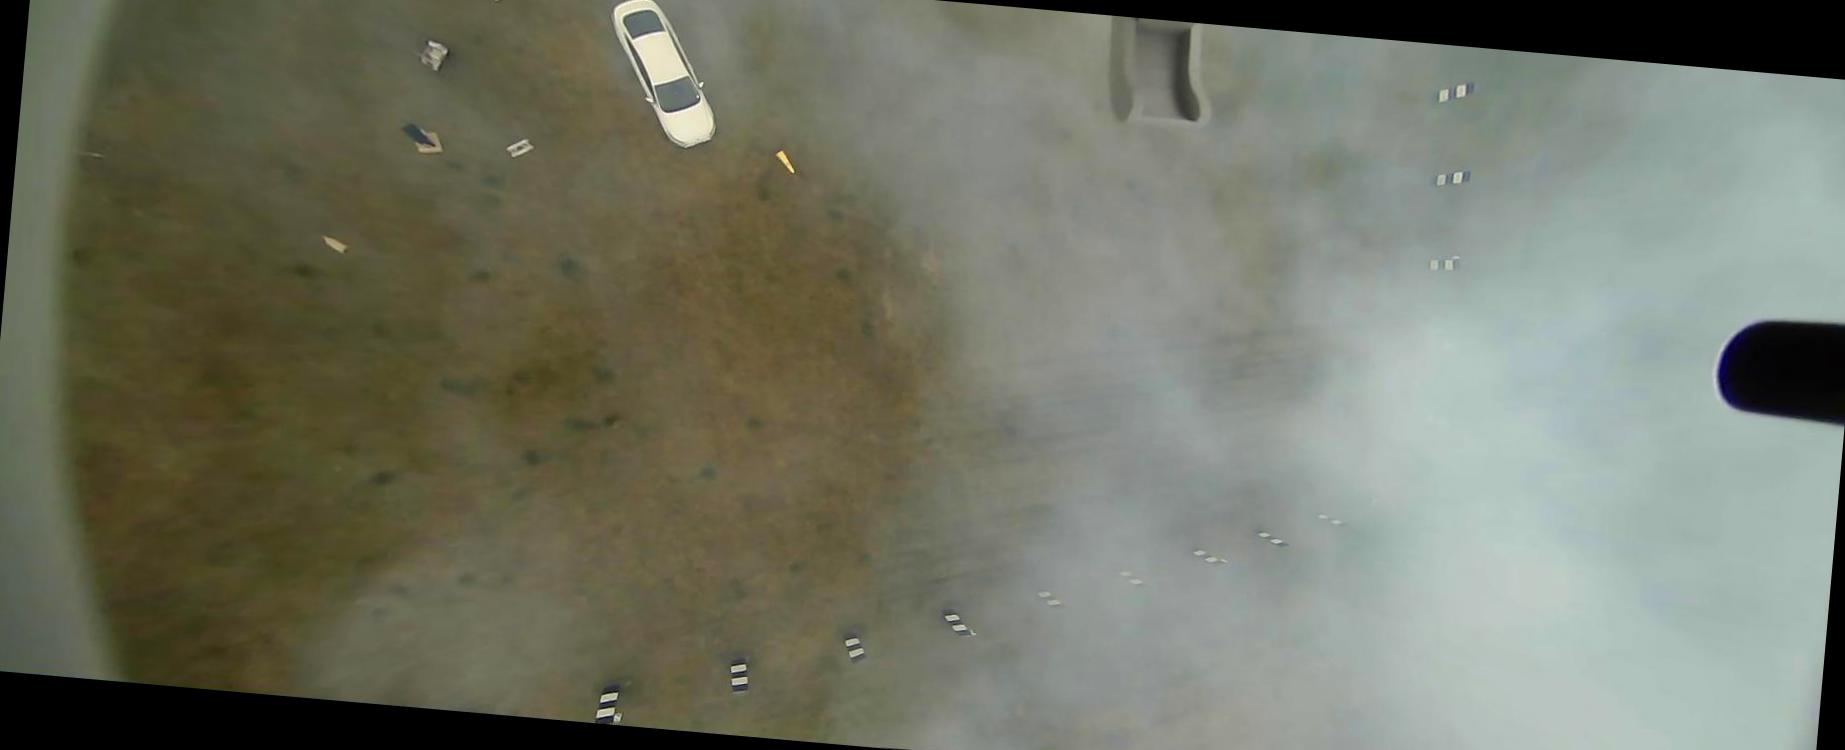vehicle: (597, 0, 730, 153)
